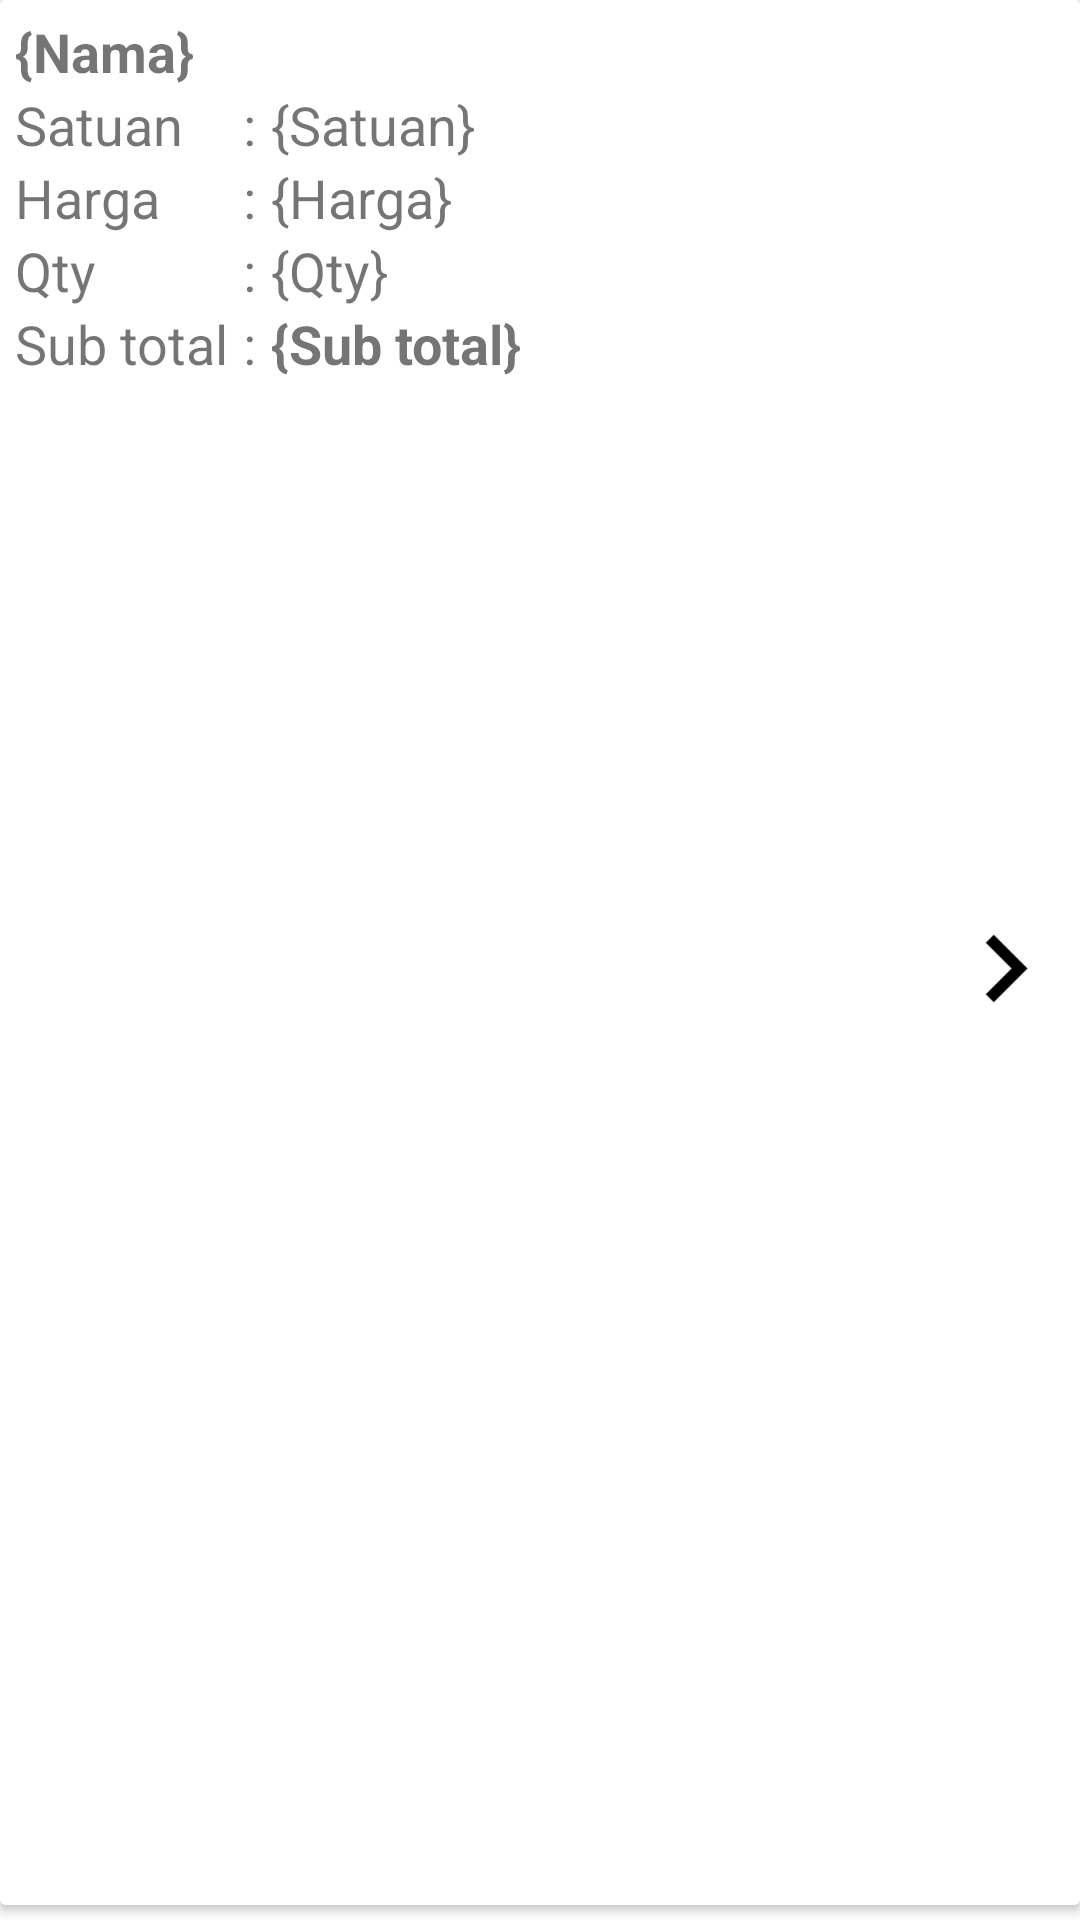

Locate icon controls on the screen. Image size 1080 × 1920, boxes as rect(x1, y1, x2, y2).
navigate next: rect(985, 935, 1028, 1002)
